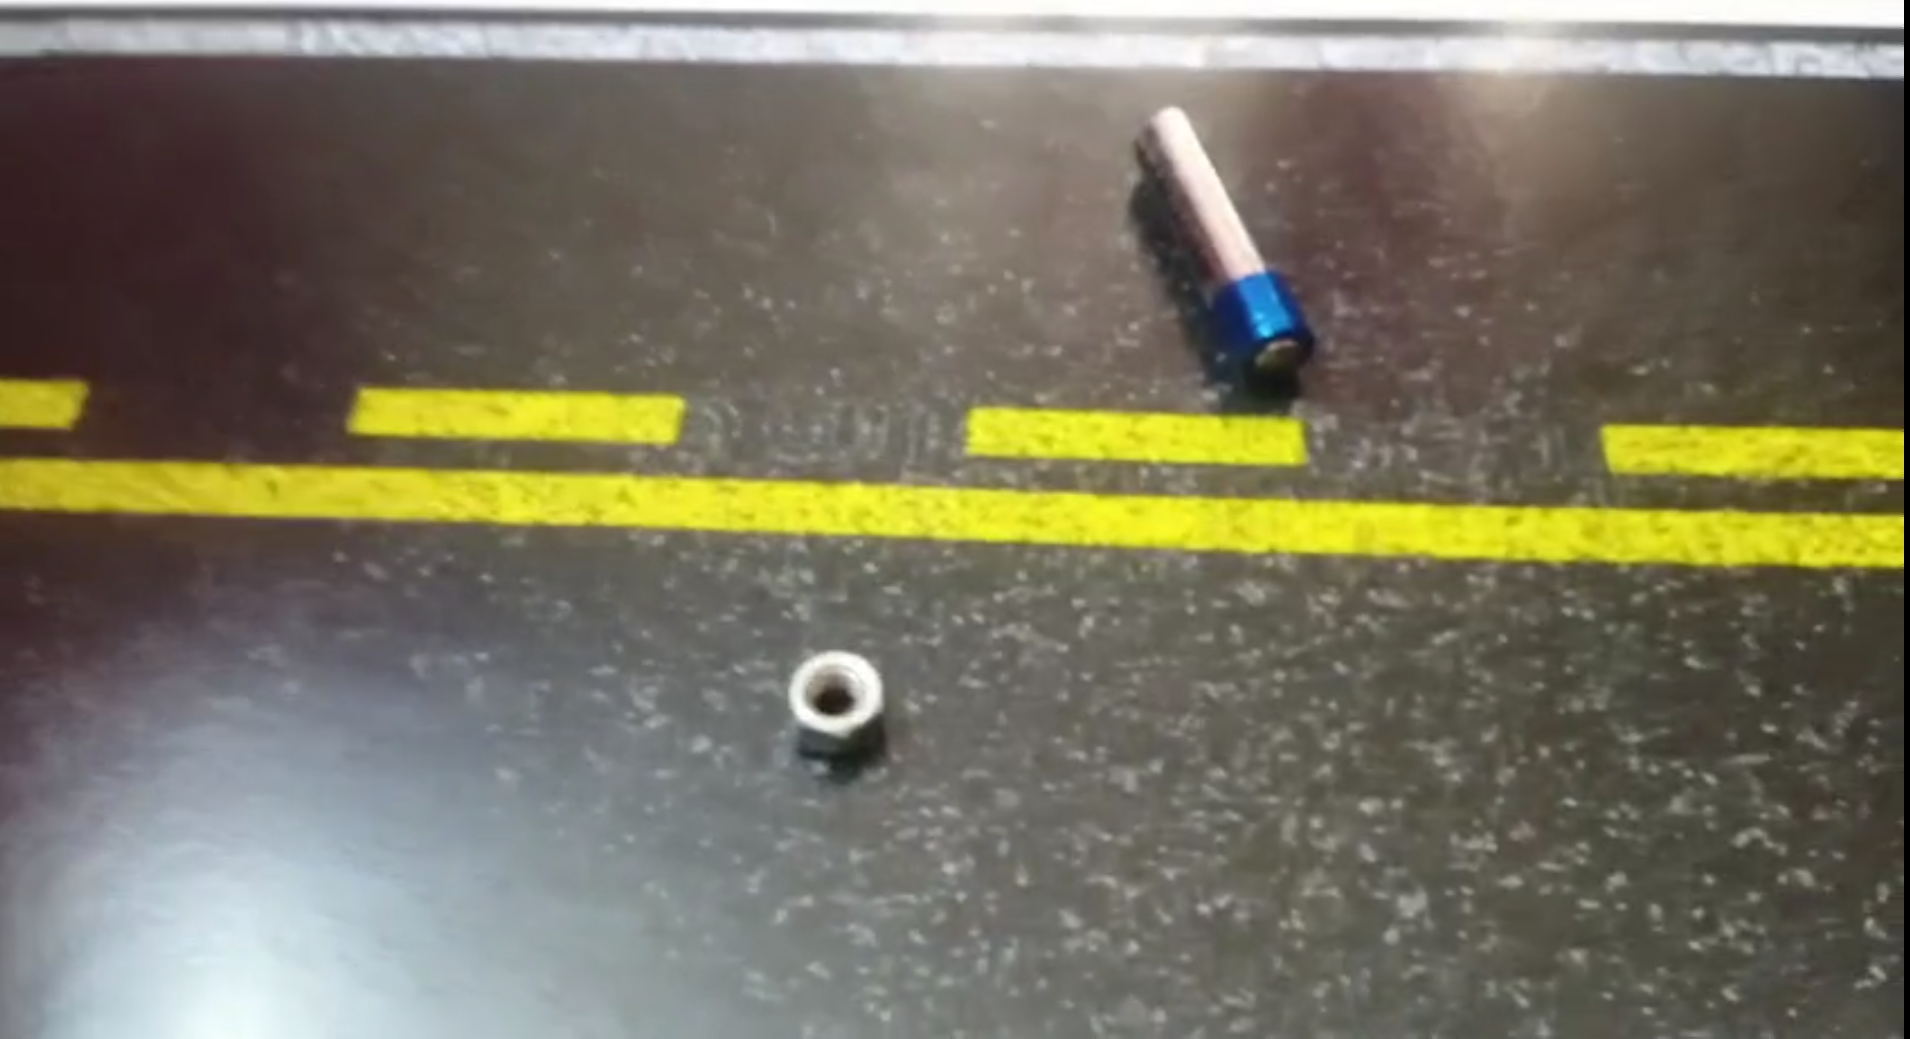metal: (1130, 102, 1323, 393), (780, 650, 897, 755)
